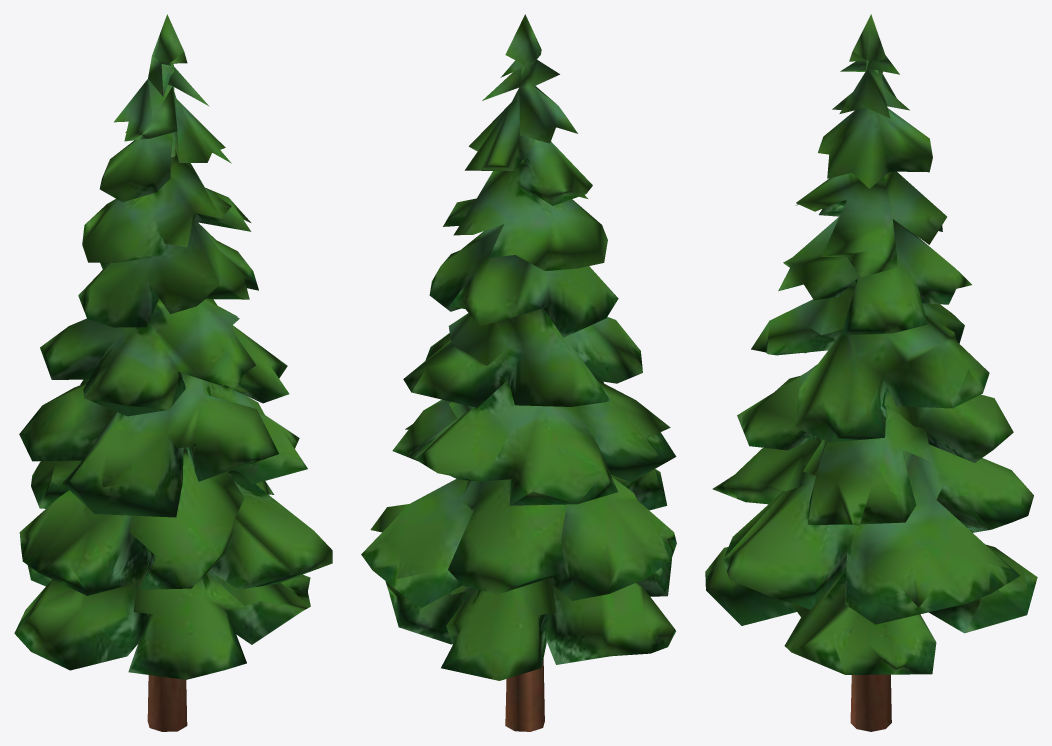
The model's file is SM_Tree_PineSummer.glb.
3 views of the same model, side by side, from view 1: azimuth 30°, elevation 25°; view 2: azimuth 150°, elevation 25°; view 3: azimuth 270°, elevation 25° (orthographic).
Visible parts, largest first — view 1: SM_Tree_PineSummer; view 2: SM_Tree_PineSummer; view 3: SM_Tree_PineSummer.
Boxes of the visible parts, <box> form: SM_Tree_PineSummer: <box>14,14,332,731</box>; SM_Tree_PineSummer: <box>361,14,676,731</box>; SM_Tree_PineSummer: <box>705,14,1037,731</box>.
Size of what is drawn, in the model's own units: 3.65 by 9.02 by 3.83.
1 material, 1 textured.
